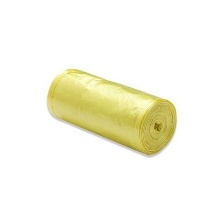plastic_bag: (39, 60, 185, 164)
